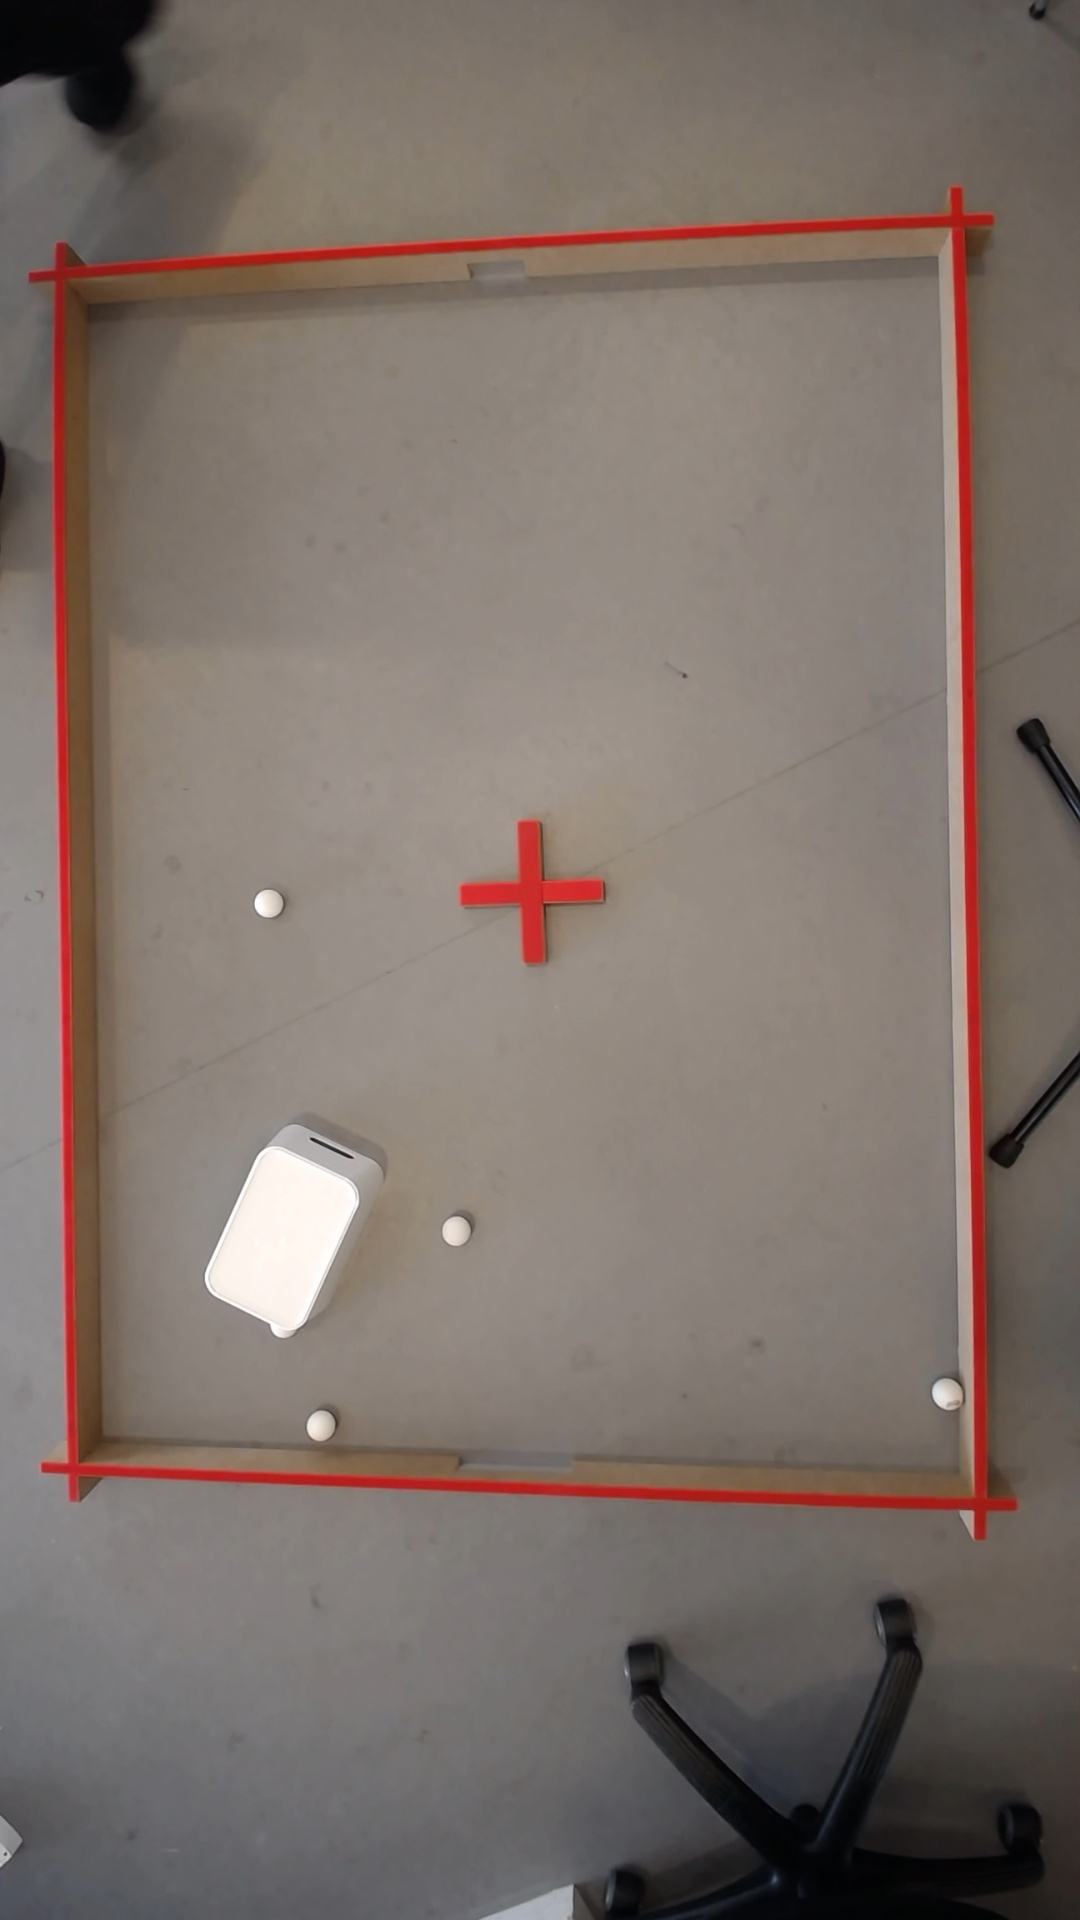balls: (191, 1137, 367, 1342), (249, 886, 280, 920), (926, 1377, 957, 1408), (438, 1215, 468, 1246)
car: (301, 1411, 327, 1440)
